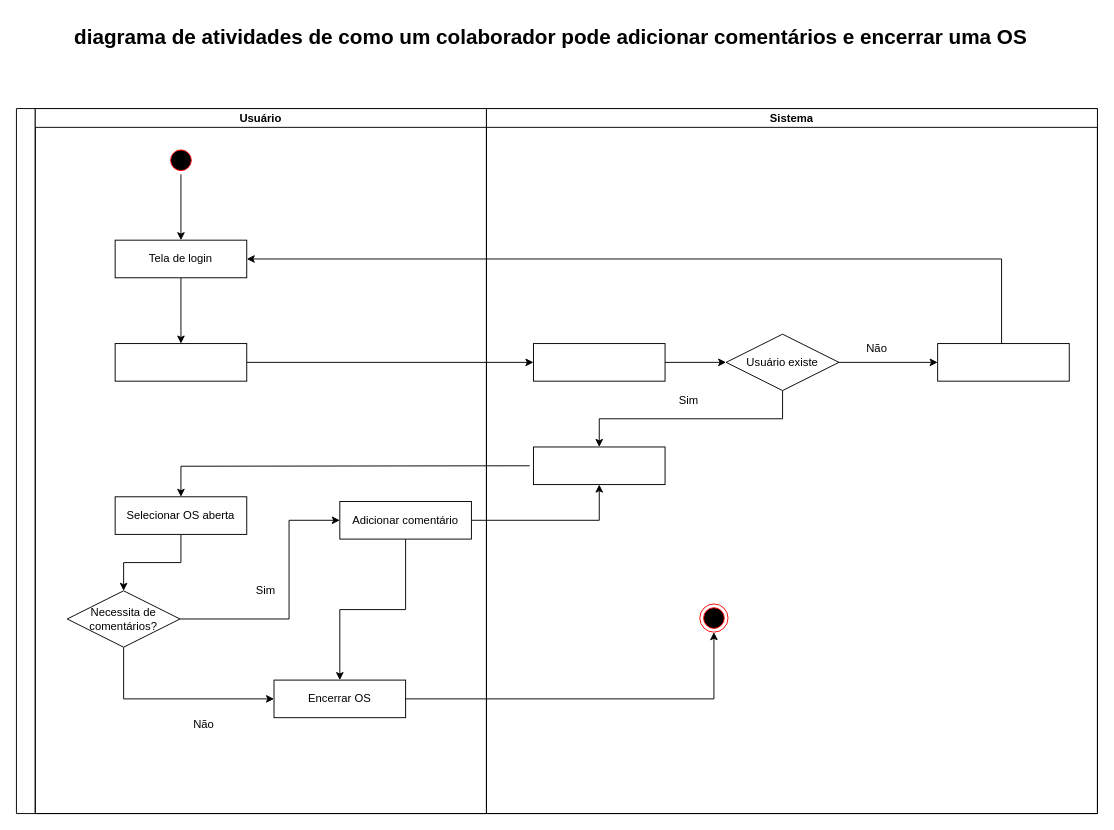
This 1114x830 diagram has some shape labels left out. Here are the shapes that lost their labels. From the top down, the centre of each, then its label:
(180,362): Preencher o dados
(599,362): Verificar dados
(1003,362): Mensagem de erro
(599,465): Redirecionar para a página de cadastro
